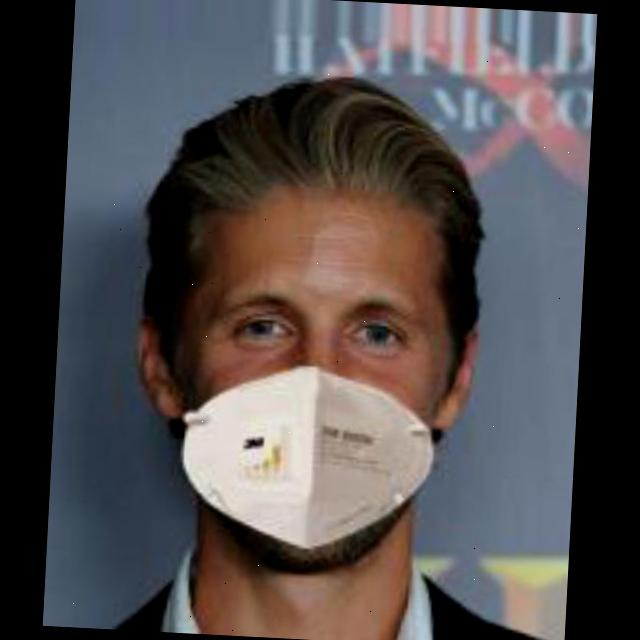suspicion: (152, 144, 474, 549)
